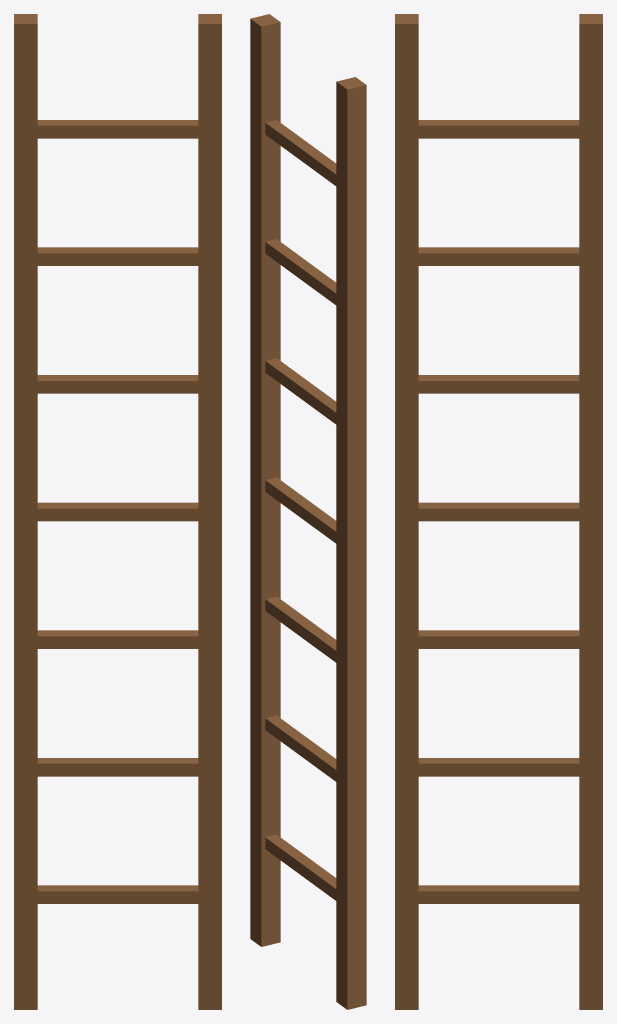
The model's file is Stairs_mat.fbx.
The picture shows the model from 3 angles, left to right: view 1: azimuth 90°, elevation 25°; view 2: azimuth 210°, elevation 25°; view 3: azimuth 270°, elevation 25°; orthographic projection. The views are drawn at different scales.
Parts seen in each view (by area): view 1: Stairs_mat; view 2: Stairs_mat; view 3: Stairs_mat.
Boxes of the visible parts, bbox=[...] form: Stairs_mat: bbox=[14, 14, 221, 1009]; Stairs_mat: bbox=[250, 14, 366, 1009]; Stairs_mat: bbox=[395, 14, 602, 1009].
Size of the model in its own units: 0.0476 by 2.19 by 0.4176.
